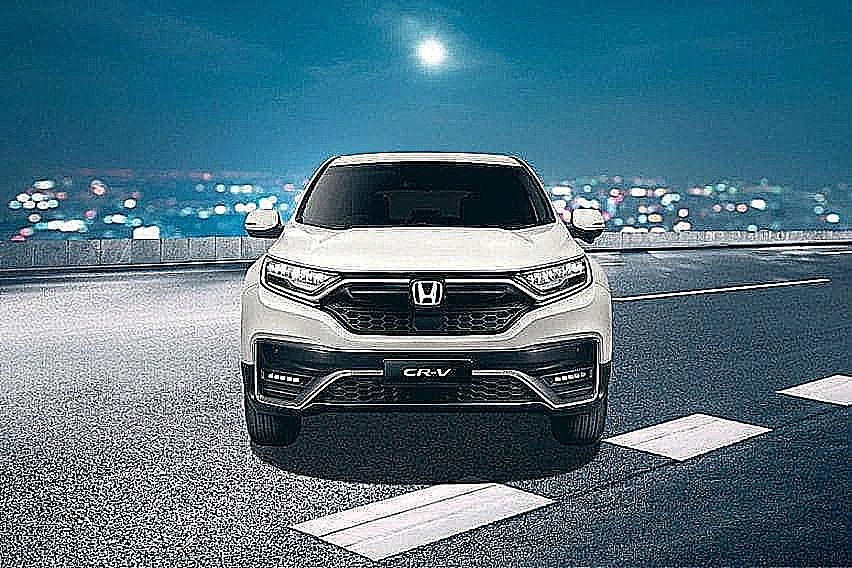Car hood: (266, 216, 588, 276)
Front bumper: (239, 298, 618, 419)
Headlight - -L-: (508, 249, 596, 307)
Headlight - -R-: (256, 246, 345, 304)
Side mirror - -L-: (560, 204, 608, 241)
Side mirror - -R-: (240, 201, 292, 242)
